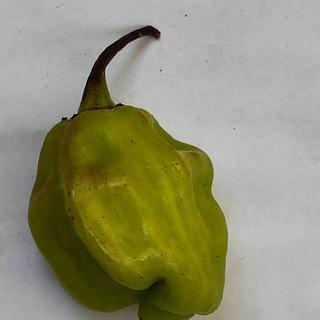Grade-A: (22, 98, 230, 318)
